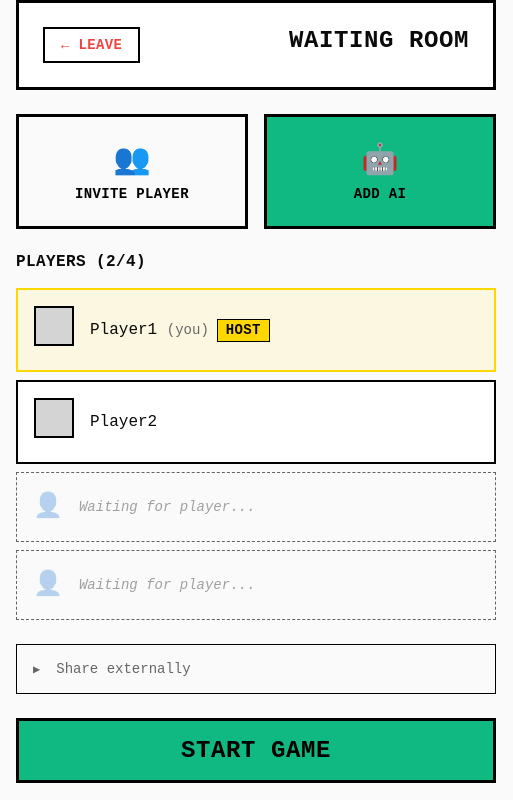
RoomLobby › renders room code in collapsed external share section (host only)
Expected: the text "ABC234" is not shown
Note: Expand the external share section
Click the button "▶ Share externally". click: (123, 669)
box: x1=16 y1=644 x2=496 y2=694
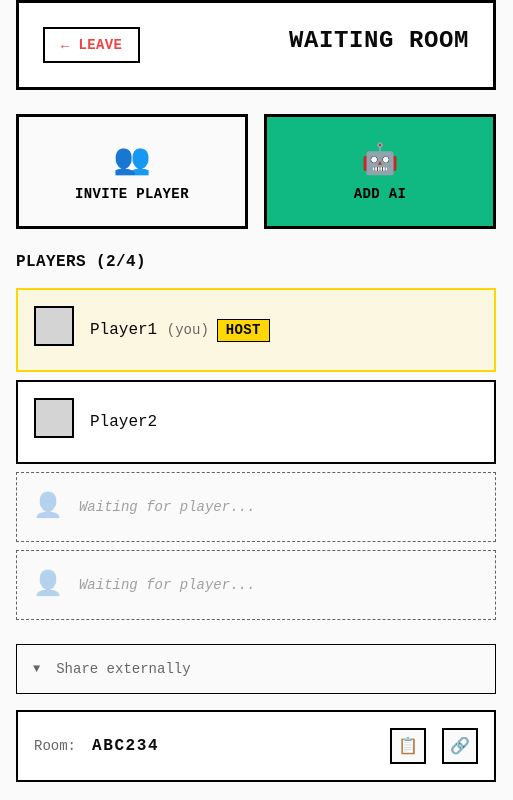
Now the text "ABC234" is shown, box x1=92 y1=737 x2=159 y2=755
